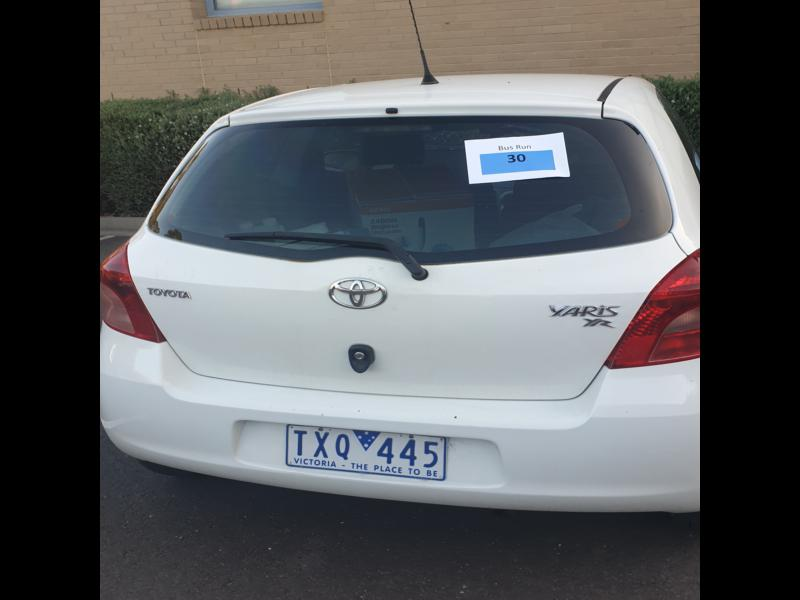BusRun: (478, 151, 555, 171)
PlateNo: (285, 422, 446, 481)
